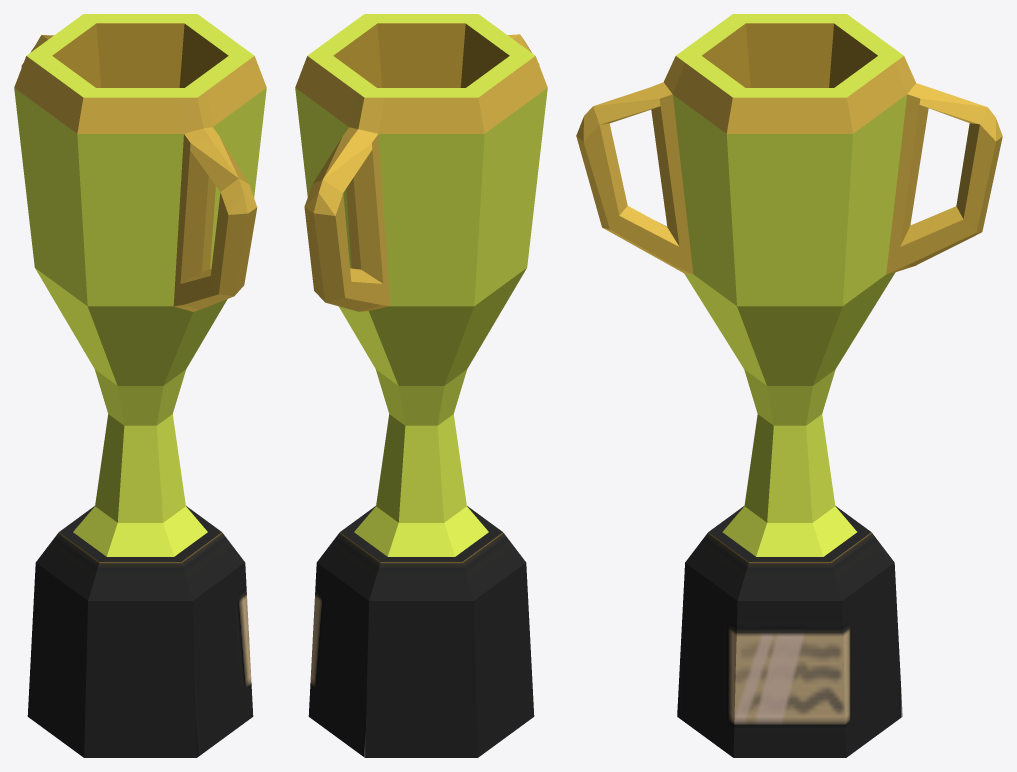
File: trophy_cup.glb
The picture shows the model from 3 angles, left to right: view 1: azimuth 30°, elevation 25°; view 2: azimuth 150°, elevation 25°; view 3: azimuth 270°, elevation 25°; orthographic projection.
Parts seen in each view (by area): view 1: Trophy Cup; view 2: Trophy Cup; view 3: Trophy Cup.
Boxes of the visible parts, x1,y1,x2,y2 form: Trophy Cup: (14, 14, 266, 757); Trophy Cup: (295, 14, 547, 757); Trophy Cup: (576, 14, 1002, 757).
Bounding box in the file's own units: 0.7873 × 2.62 × 1.53.
1 material, 1 textured.
